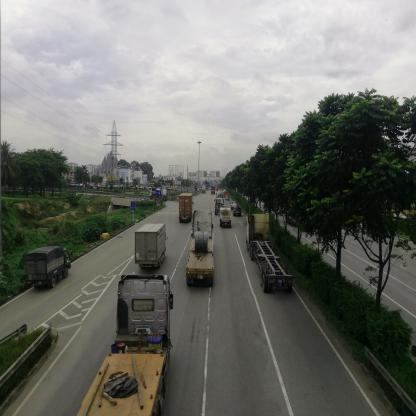car: (235, 207, 244, 218)
container: (83, 276, 171, 416), (246, 215, 276, 296), (189, 211, 213, 289), (180, 194, 194, 221), (217, 198, 224, 212)
truck: (24, 245, 73, 289), (136, 224, 168, 269), (223, 208, 232, 230)
